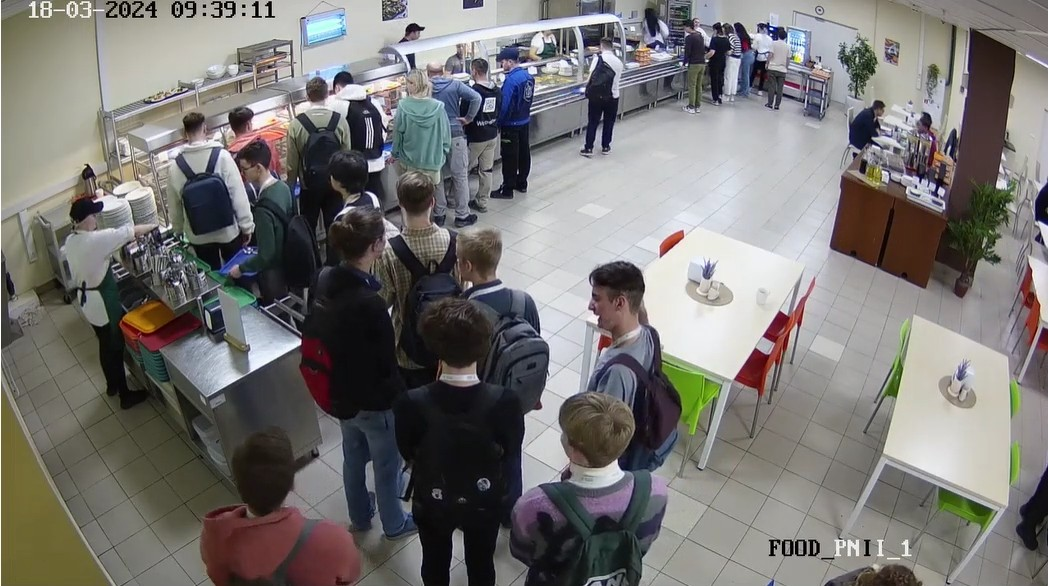Na_Kasse: (682, 26, 702, 112), (766, 31, 789, 104), (710, 18, 724, 103), (728, 18, 740, 102), (742, 21, 754, 99)
Ne_v_Ocheredi: (402, 294, 520, 586), (309, 198, 407, 534), (519, 387, 671, 586), (204, 429, 357, 586), (582, 259, 677, 464), (451, 219, 547, 390), (394, 167, 462, 293), (310, 144, 380, 219)
Personal: (59, 183, 147, 406), (524, 19, 556, 57), (636, 2, 662, 47), (395, 19, 423, 41), (679, 9, 704, 31), (448, 33, 469, 59)
Vybiraet: (151, 108, 242, 260), (235, 144, 308, 313), (415, 59, 471, 214), (277, 71, 347, 182), (496, 50, 538, 198), (393, 59, 446, 167), (339, 66, 389, 166), (466, 60, 497, 208), (584, 41, 618, 155), (229, 108, 282, 159)
Za_Stolom: (837, 96, 889, 167), (1017, 165, 1048, 231), (913, 104, 947, 148)
